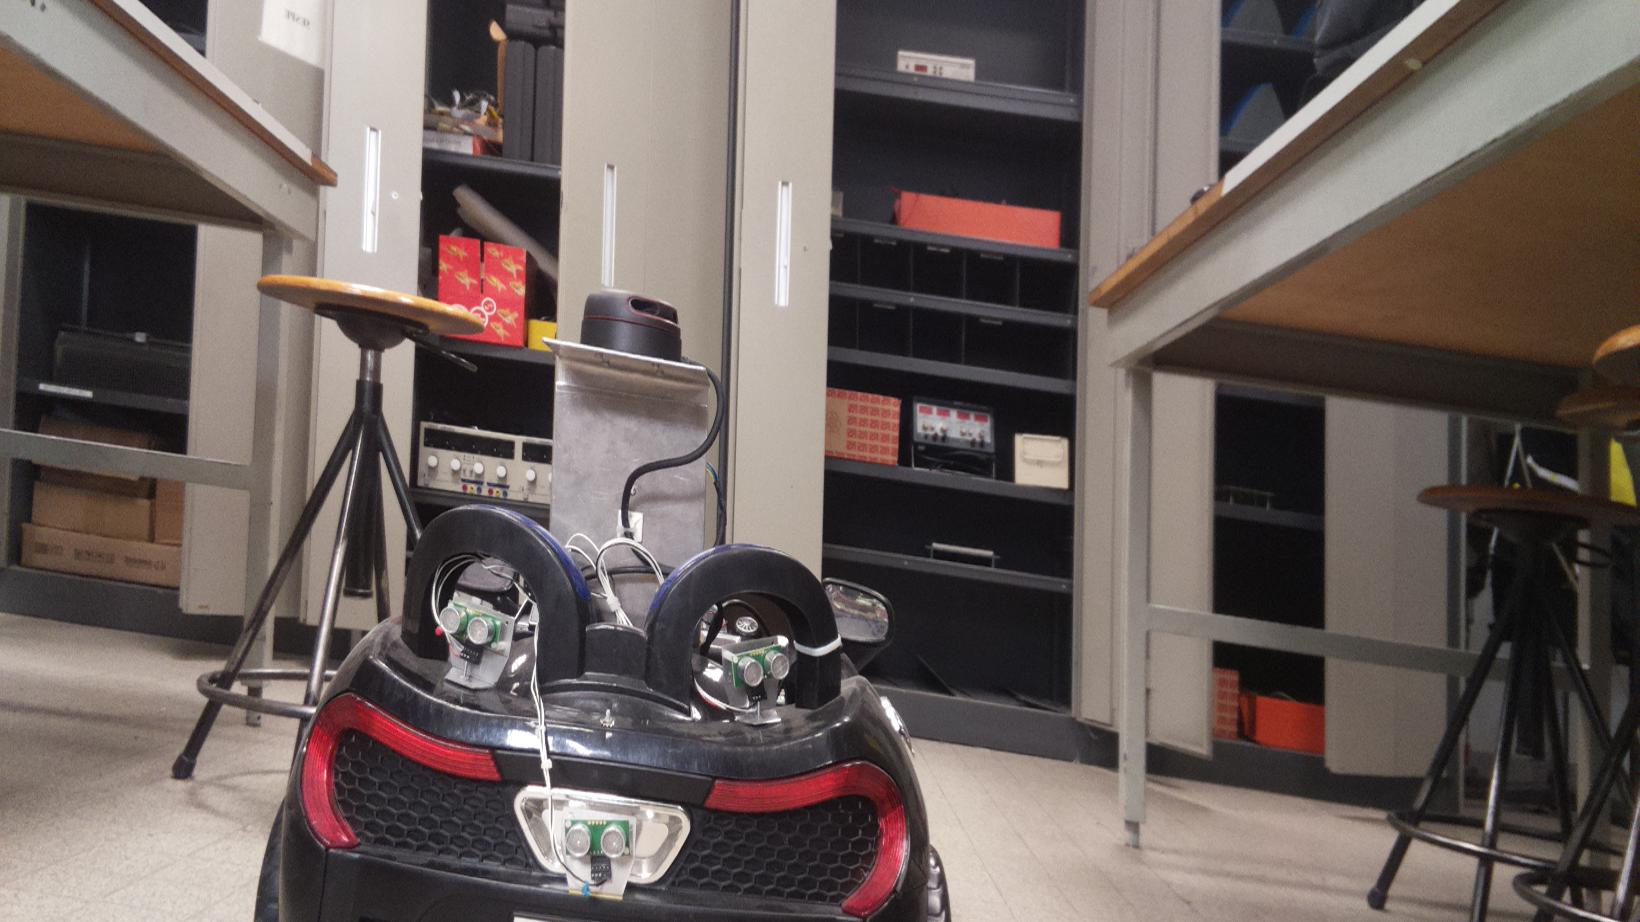big: (270, 290, 971, 922)
